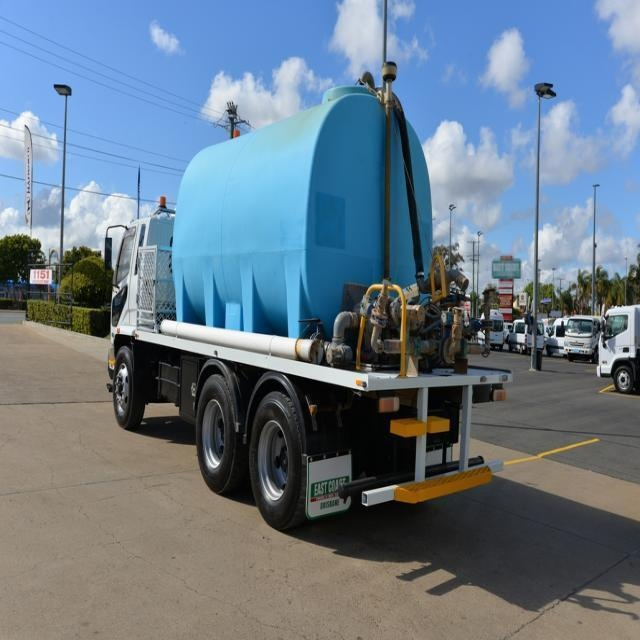Truck: (102, 61, 514, 526), (598, 301, 640, 394)
